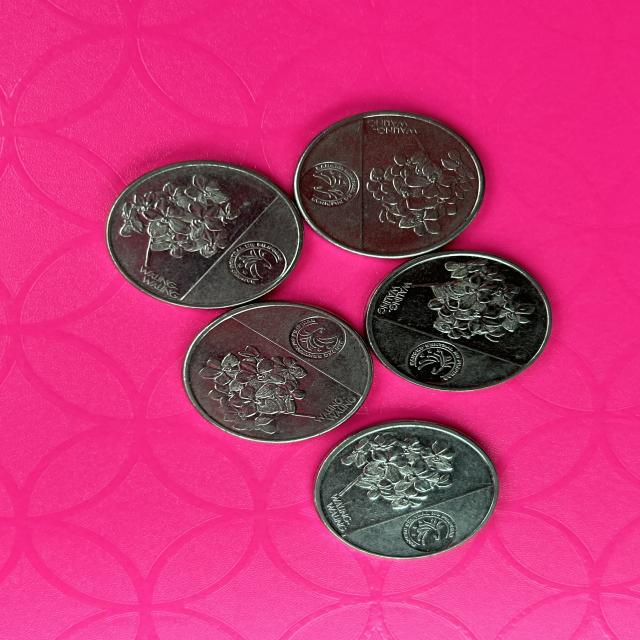1_New_Back: (192, 334, 350, 439), (386, 249, 535, 353), (362, 116, 470, 243), (120, 174, 240, 270), (324, 422, 462, 502)
